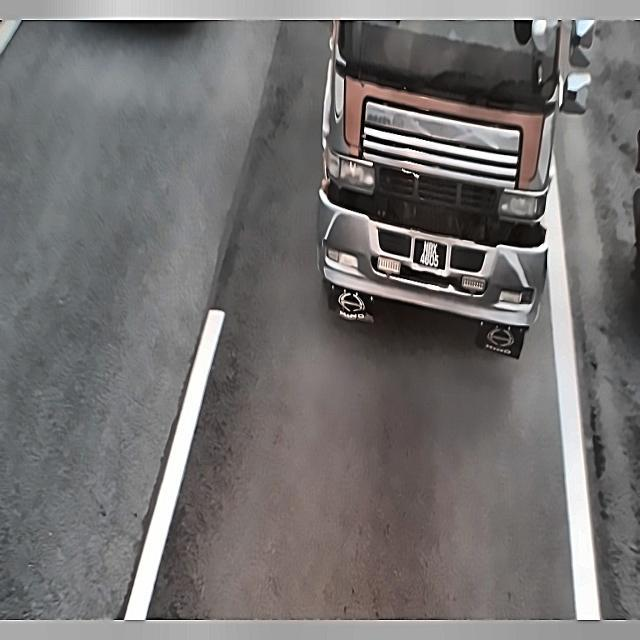car: (412, 225, 446, 281)
